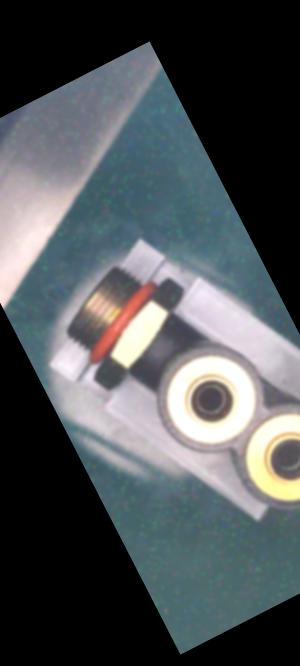joint line: (149, 340, 167, 363)
